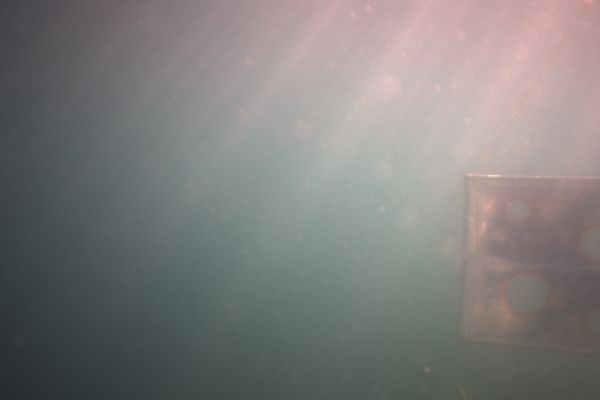torpille: (460, 174, 600, 354)
torpille_target: (502, 272, 550, 316), (580, 226, 600, 260), (505, 198, 529, 222), (588, 309, 600, 337)
